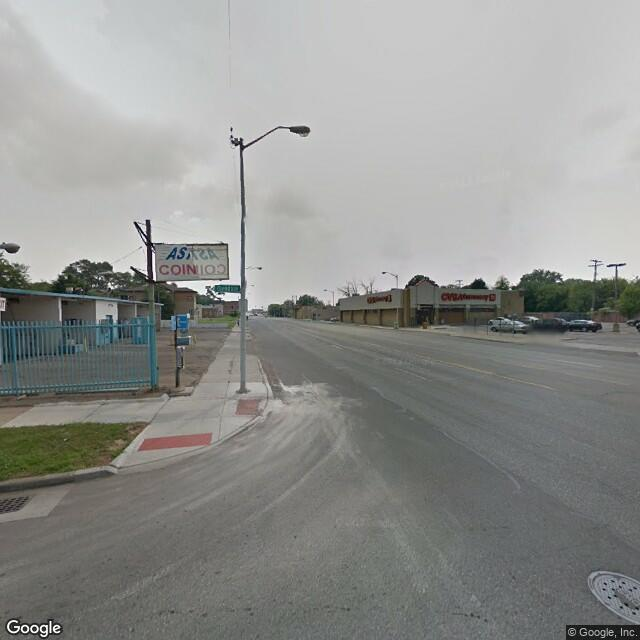litter: (63, 436, 72, 443)
